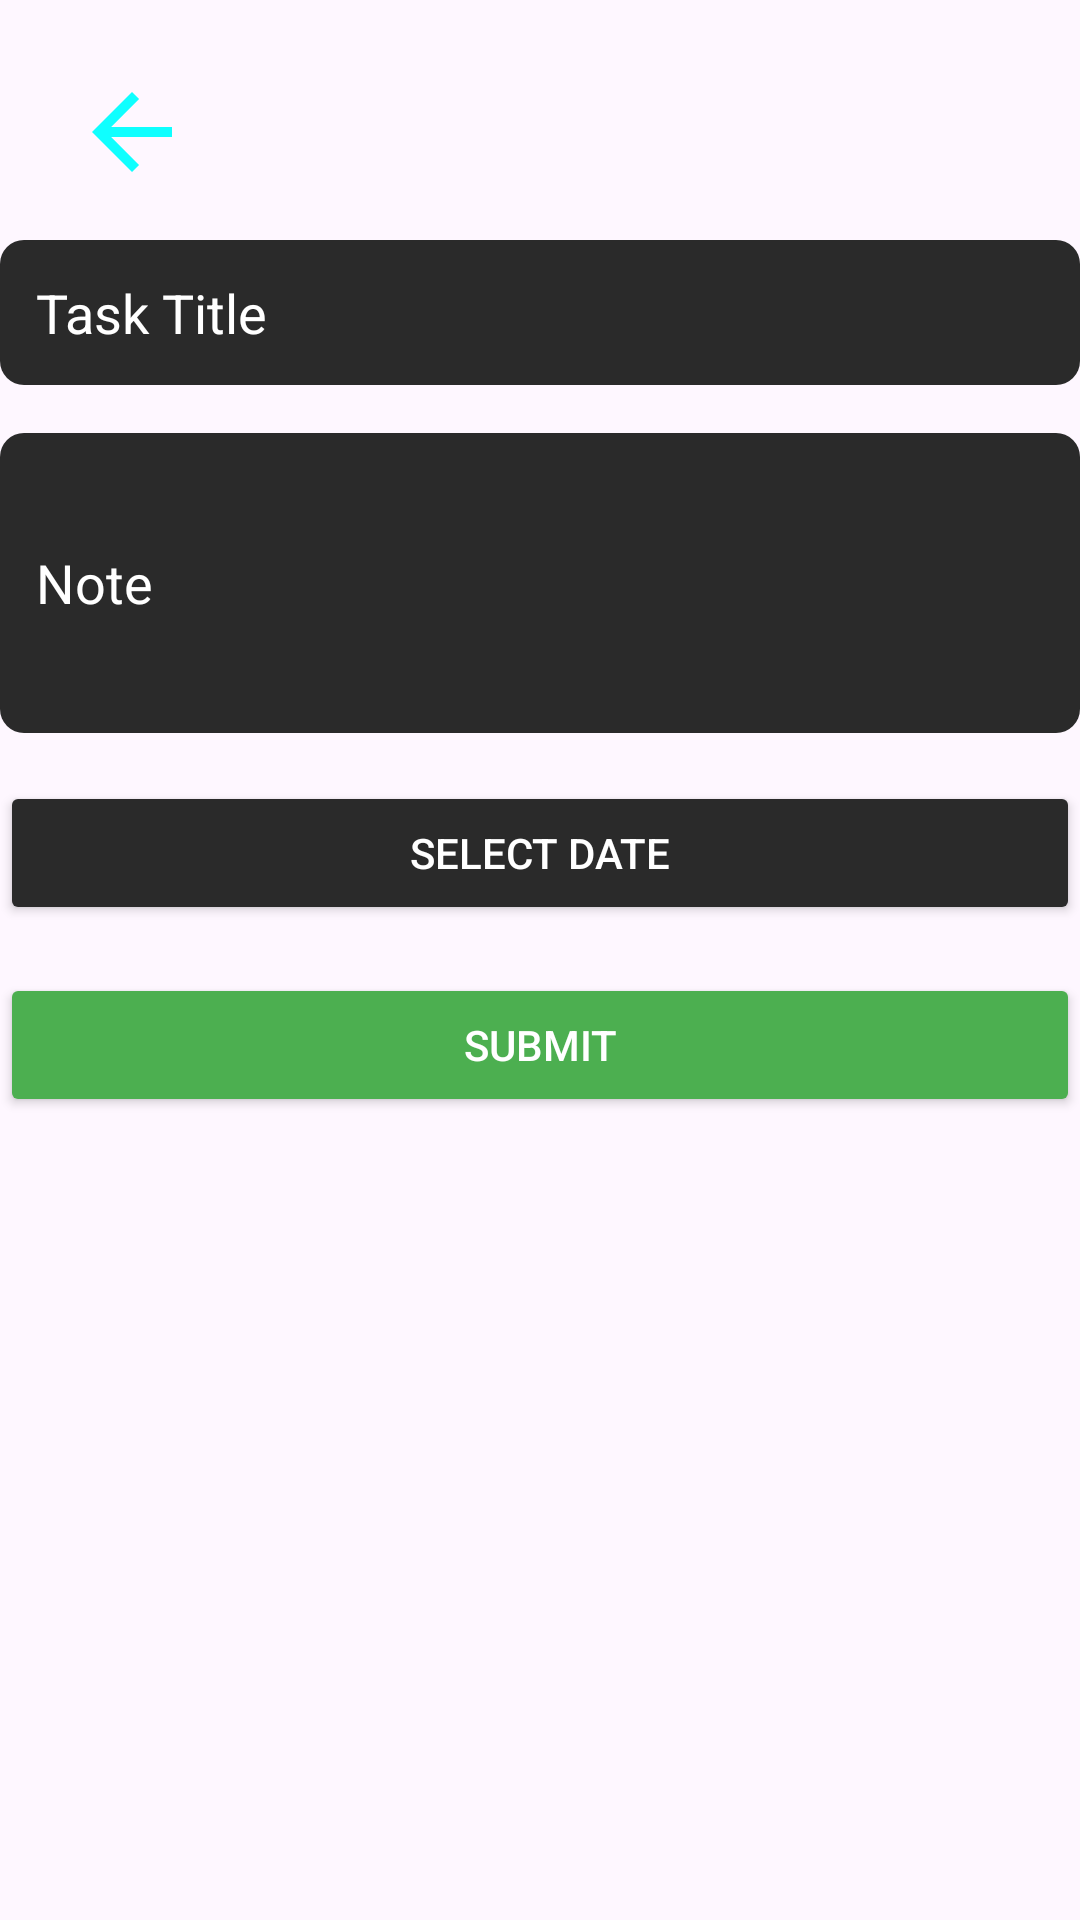

Where to tap for icons on this 1080×1920 app screen, as (x=x, y=y):
Back: (x=132, y=132)
